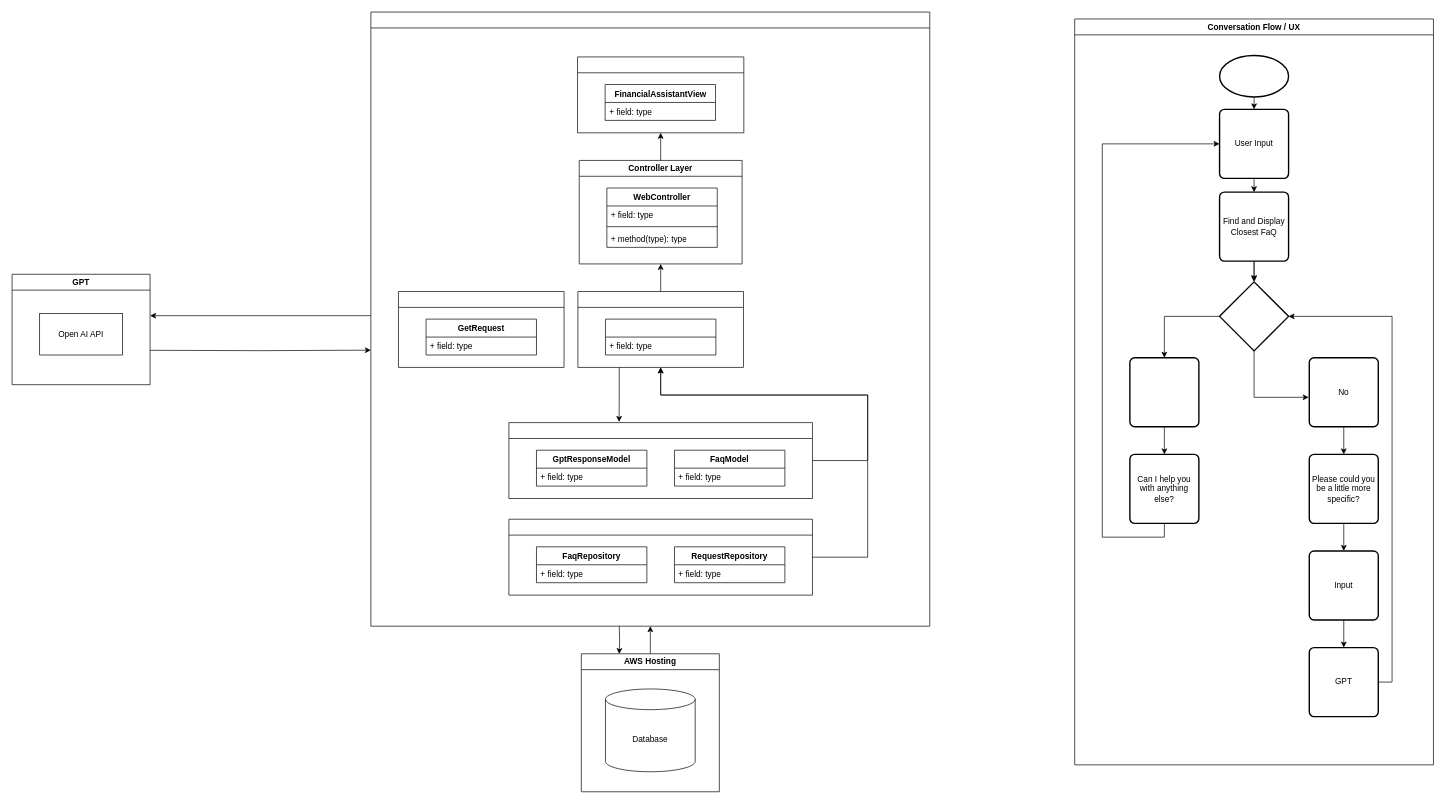
Some shapes in this 1446 by 804 pixel diagram are drawn without their labels. Each missing label, with the box of its shape:
App: (370, 11, 930, 626)
ChatBotService: (605, 318, 716, 355)
Does this answer your question?: (1219, 281, 1289, 351)
Models: (508, 422, 812, 499)
Repository Layer: (508, 519, 812, 595)
RequestBuilder: (398, 291, 564, 367)
Service Layer: (577, 291, 743, 367)
Start: (1219, 55, 1289, 97)
Views: (577, 56, 744, 133)
Yes: (1129, 357, 1199, 427)
